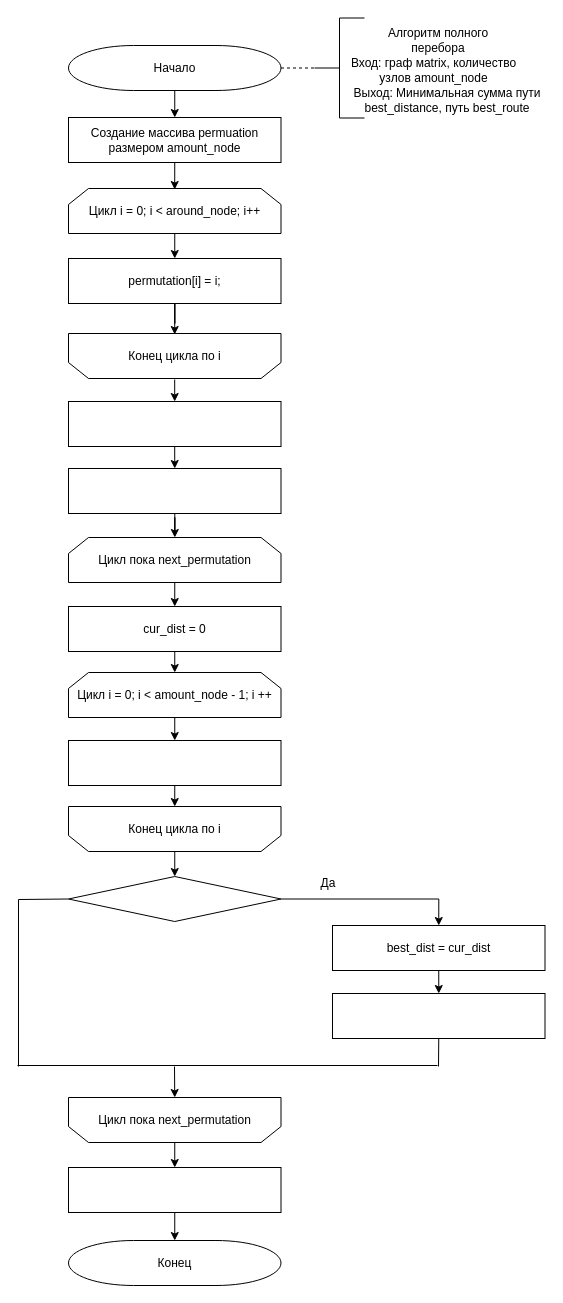
This 563x1303 diagram has some shape labels left out. The shapes that lost their labels are listed below. From the top down, each one's centre as x and y in pixels, then its label:
At point 174,423: "best_dist = INT_MAX".
At point 174,491: "Создание массива best_route".
At point 174,763: "cur_dist += matrix[permutation[i][permutation[i+1]]".
At point 174,899: "cur_dist < best_dist".
At point 438,1015: "best_route = permutation".
At point 174,1189: "Вернуть best_dist, best_route".
